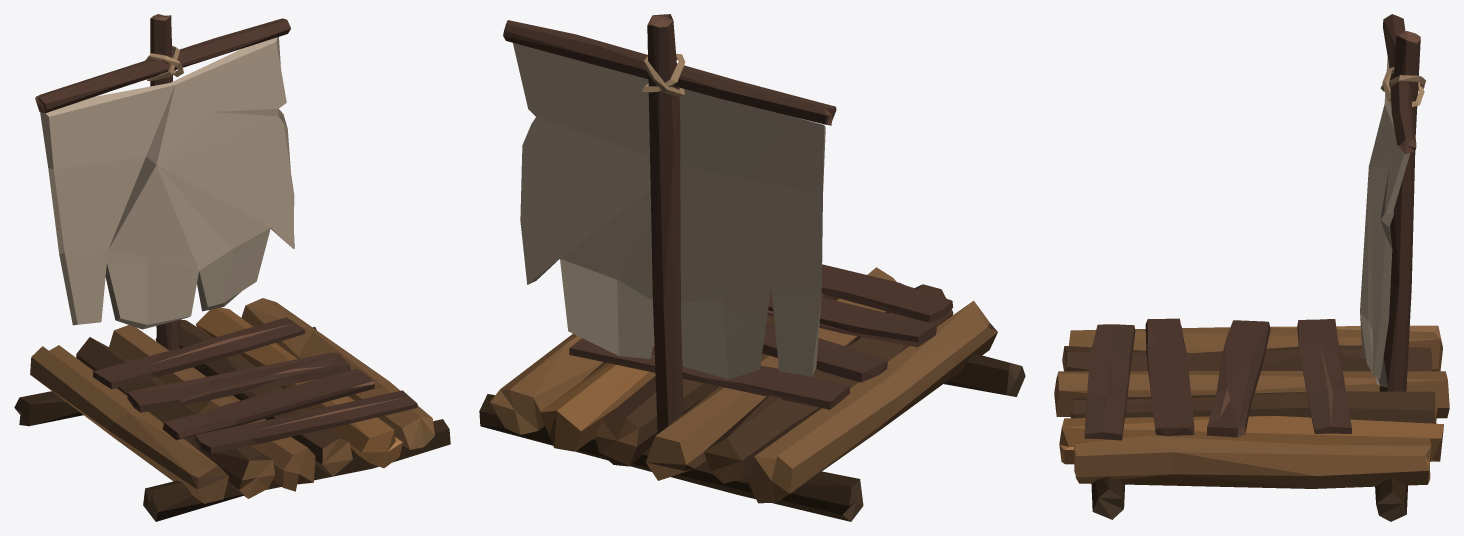
Rendered from raft.glb.
3 views of the same model, side by side, from view 1: azimuth 30°, elevation 25°; view 2: azimuth 150°, elevation 25°; view 3: azimuth 270°, elevation 25° (orthographic). The views are drawn at different scales.
Parts seen in each view (by area): view 1: Raft_01; view 2: Raft_01; view 3: Raft_01.
Part boxes in pixels (<box>): Raft_01: <box>14,14,450,521</box>; Raft_01: <box>479,14,1025,521</box>; Raft_01: <box>1054,14,1449,521</box>.
Size of the model in its own units: 3.77 by 4.51 by 3.93.
1 material, 1 textured.
